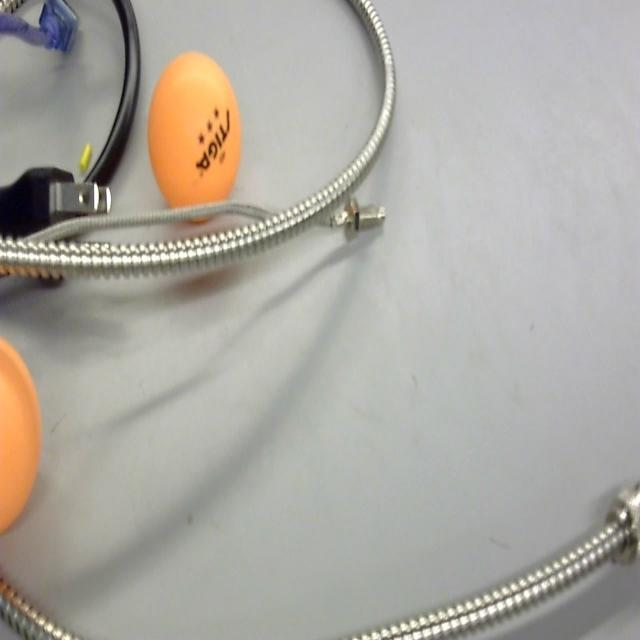ball: (147, 51, 243, 222), (0, 335, 43, 538)
